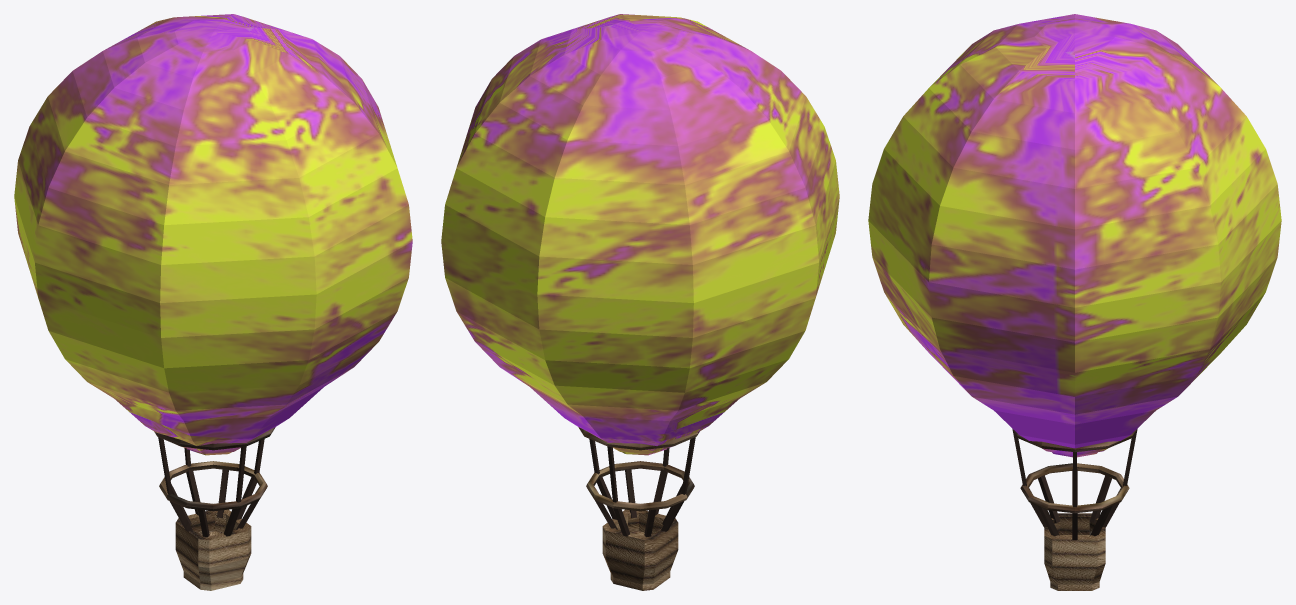
Rendered from hot-air-balloon_3.fbx.
3 renders of one model, left to right at view 1: azimuth 30°, elevation 25°; view 2: azimuth 150°, elevation 25°; view 3: azimuth 270°, elevation 25°, orthographic.
Visible parts, largest first — view 1: Torus.003; view 2: Torus.003; view 3: Torus.003.
Boxes of the visible parts, <box> form: Torus.003: <box>14,14,412,590</box>; Torus.003: <box>441,14,839,590</box>; Torus.003: <box>868,14,1281,590</box>.
Bounding box in the file's own units: 200 × 292 × 200.
